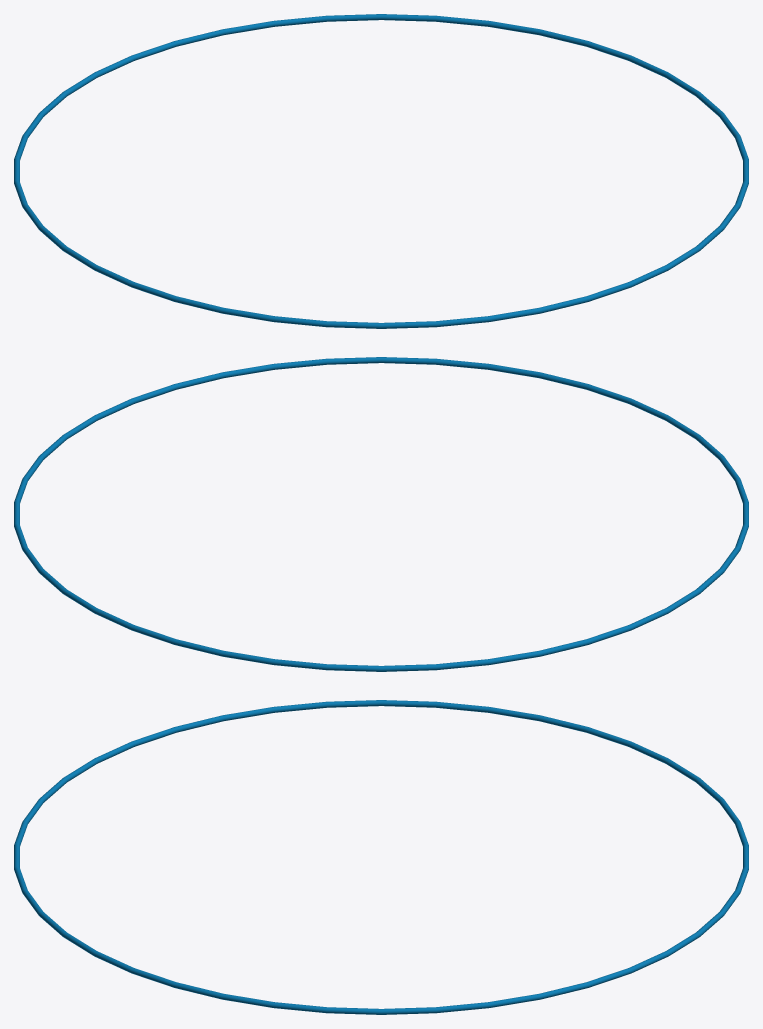
File: Rotate_Z.fbx
3 views of the same model, one above another, from view 1: azimuth 30°, elevation 25°; view 2: azimuth 150°, elevation 25°; view 3: azimuth 270°, elevation 25° (orthographic).
Parts seen in each view (by area): view 1: Z_Axis; view 2: Z_Axis; view 3: Z_Axis.
Part boxes in pixels (left/top/right/bottom): Z_Axis: left=14, top=14, right=748, bottom=328; Z_Axis: left=14, top=357, right=748, bottom=671; Z_Axis: left=14, top=700, right=748, bottom=1014.
Size of the model in its own units: 121 by 0.9848 by 121.
